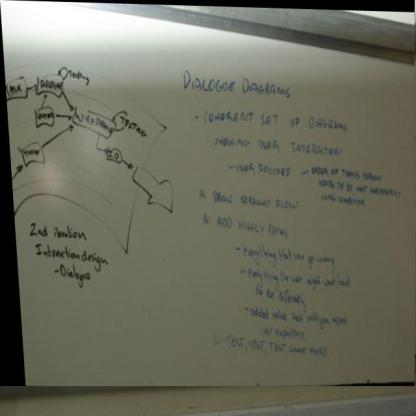Handwritten text: (18, 240, 116, 302), (205, 330, 337, 367), (195, 105, 352, 135), (306, 162, 405, 208), (176, 64, 295, 102), (205, 131, 353, 158), (227, 261, 355, 292), (232, 302, 354, 332), (233, 243, 347, 272), (206, 211, 293, 241), (204, 185, 300, 211), (239, 281, 314, 310), (217, 159, 299, 184), (48, 220, 93, 243), (250, 325, 312, 341)
